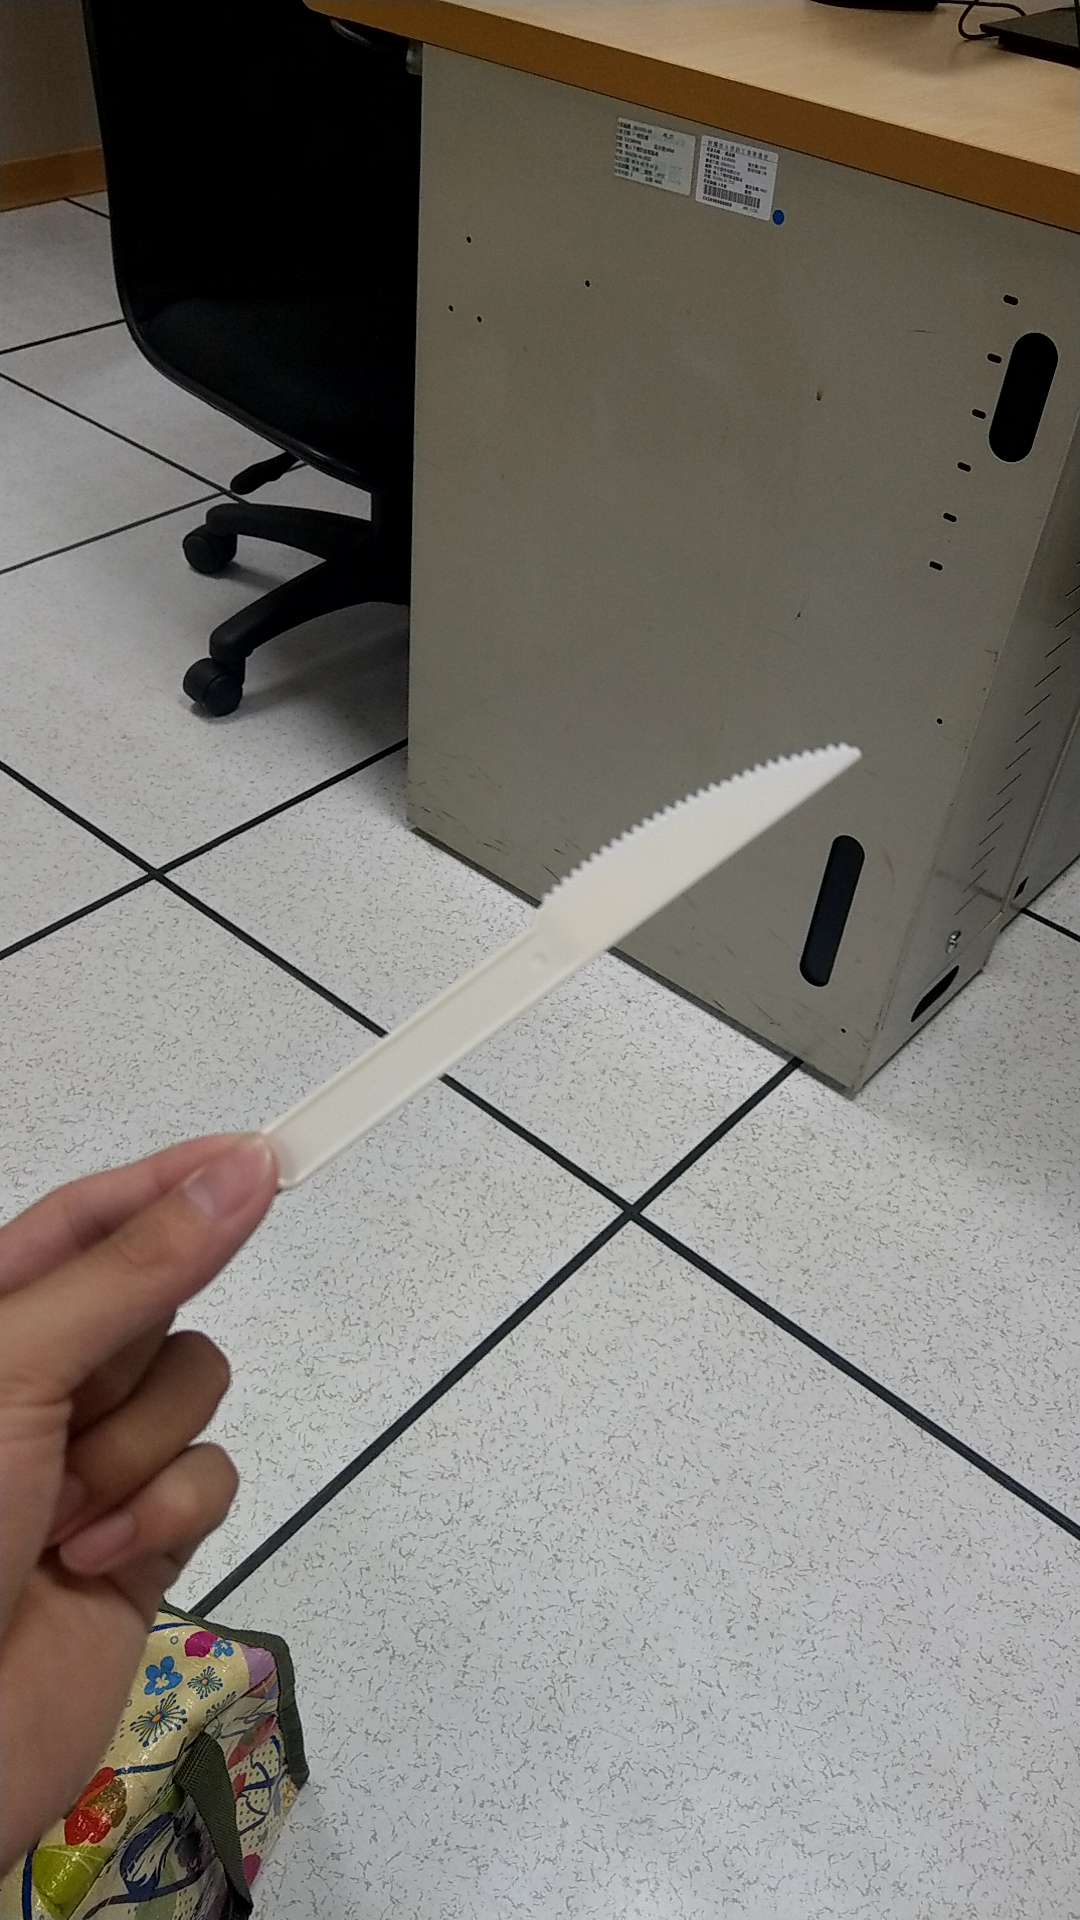knife: (272, 707, 890, 1222)
